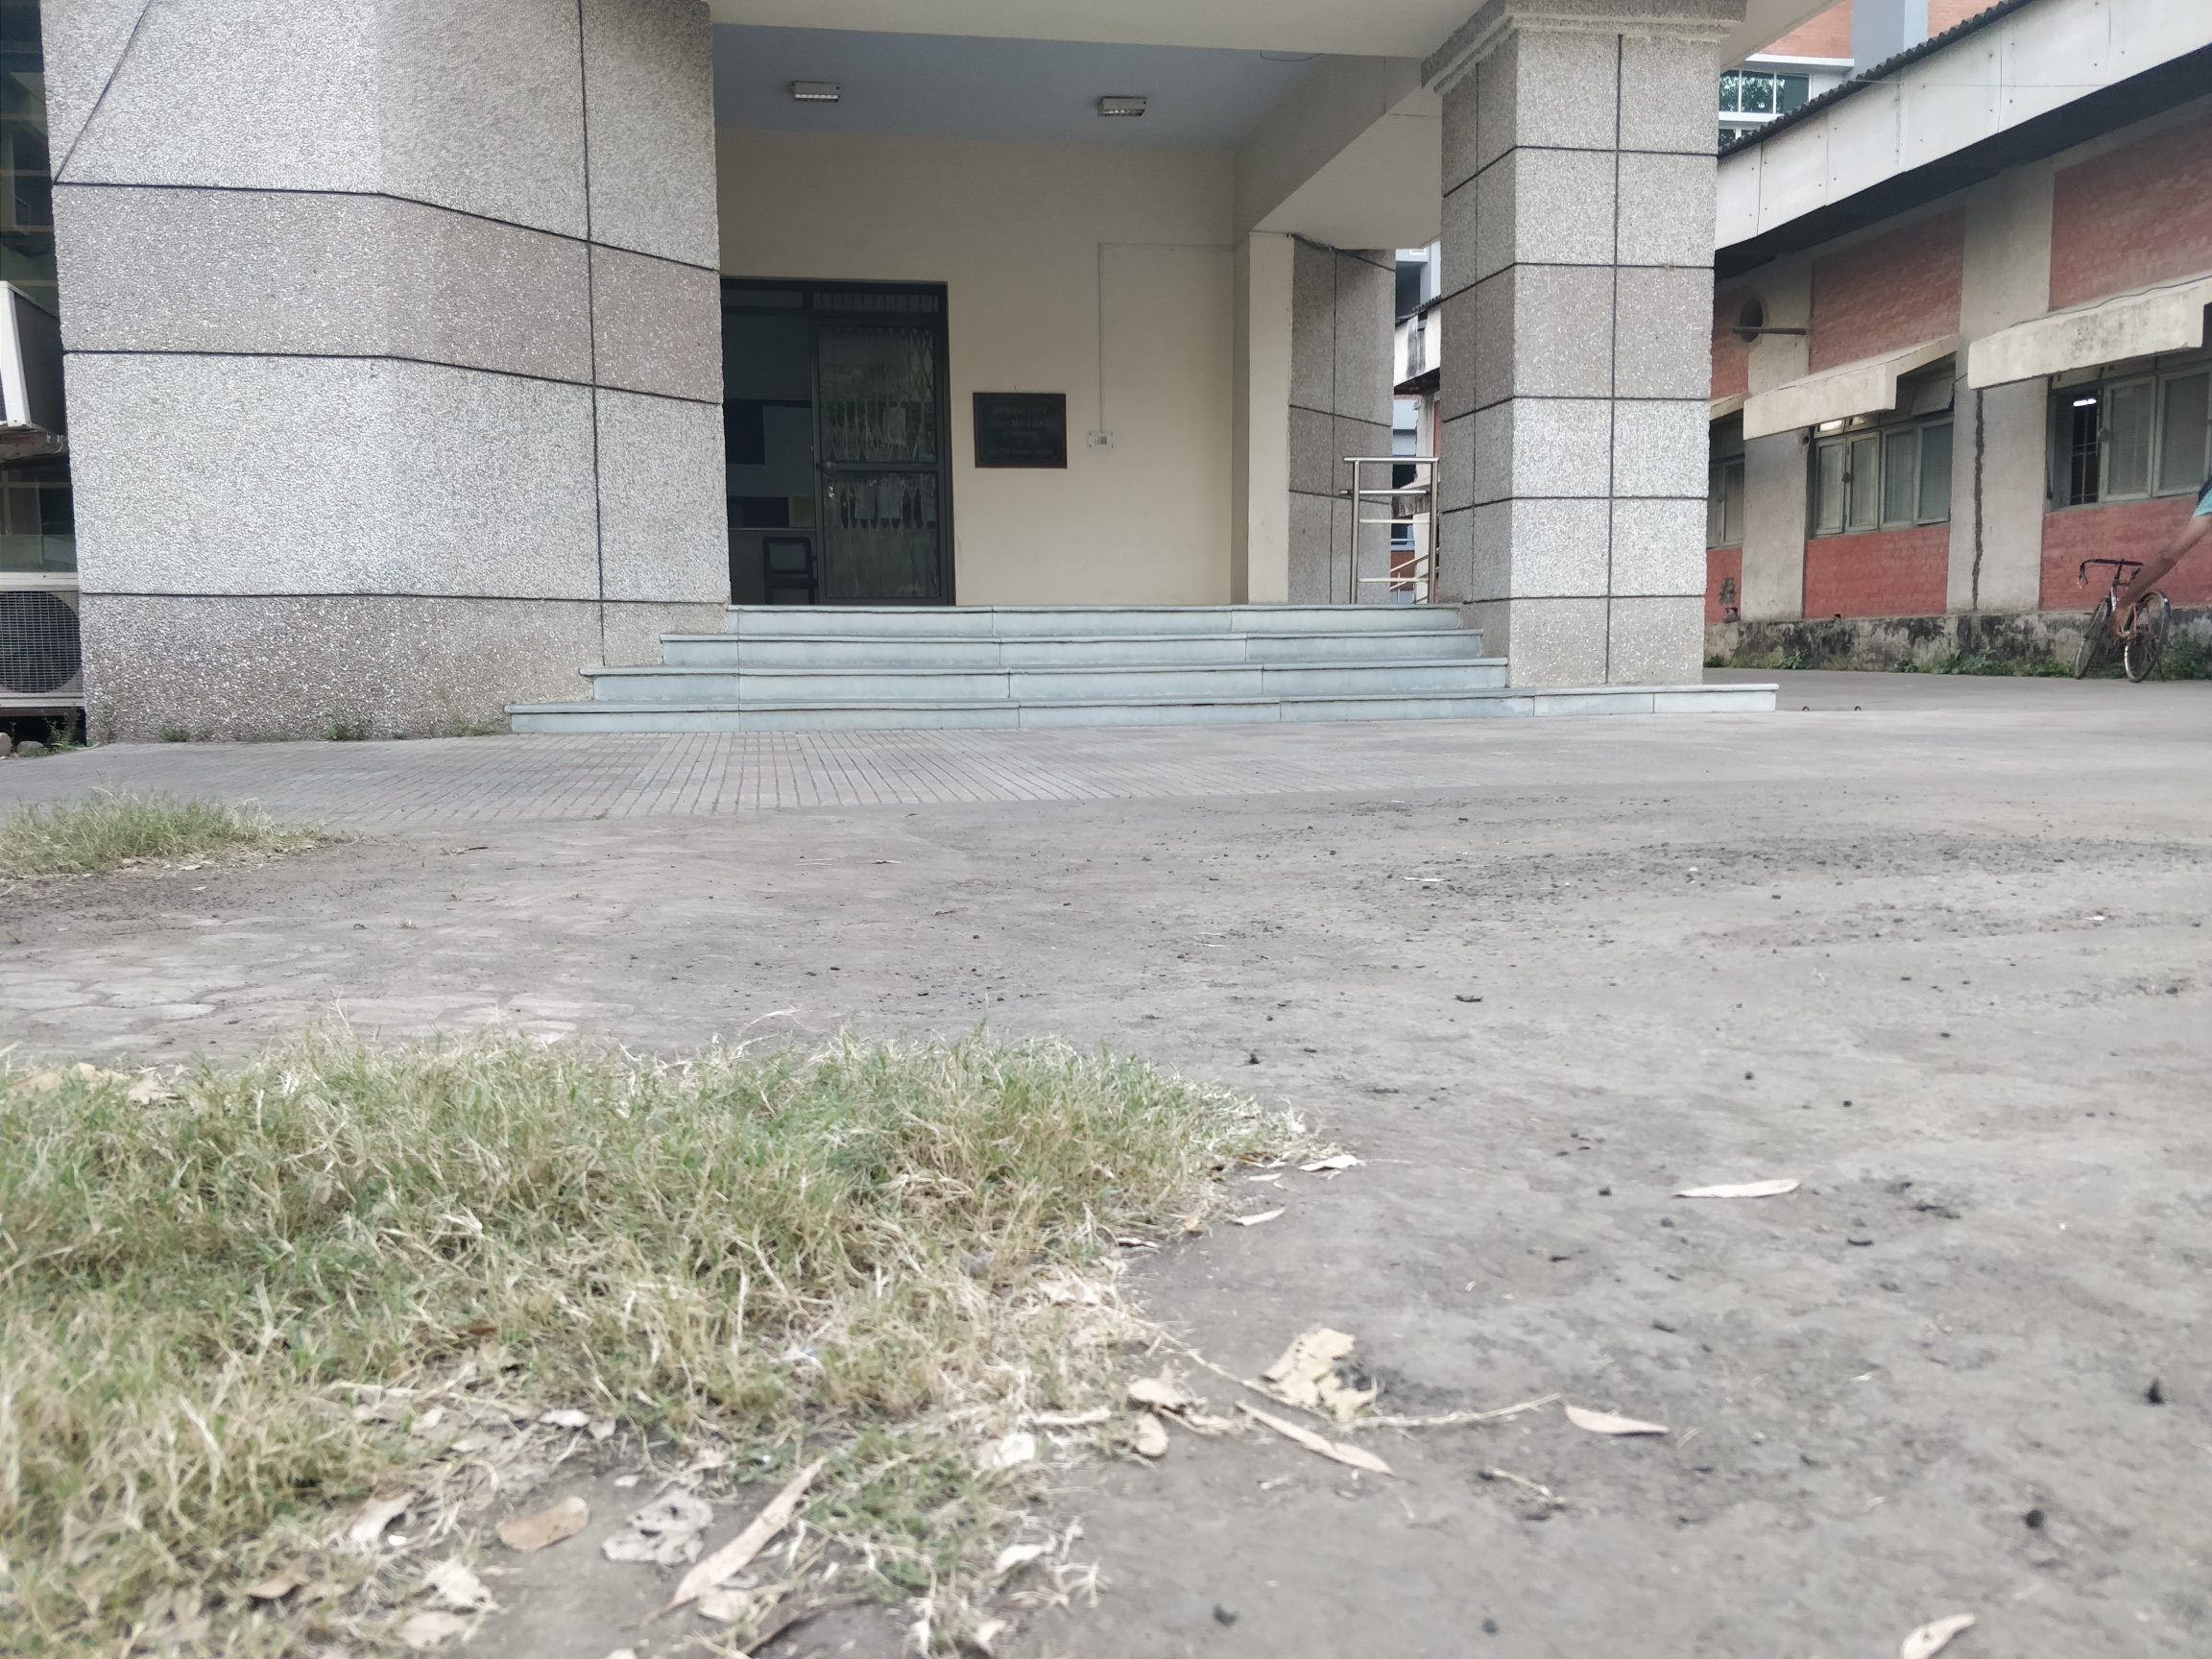stairs_up: (529, 596, 1512, 732)
